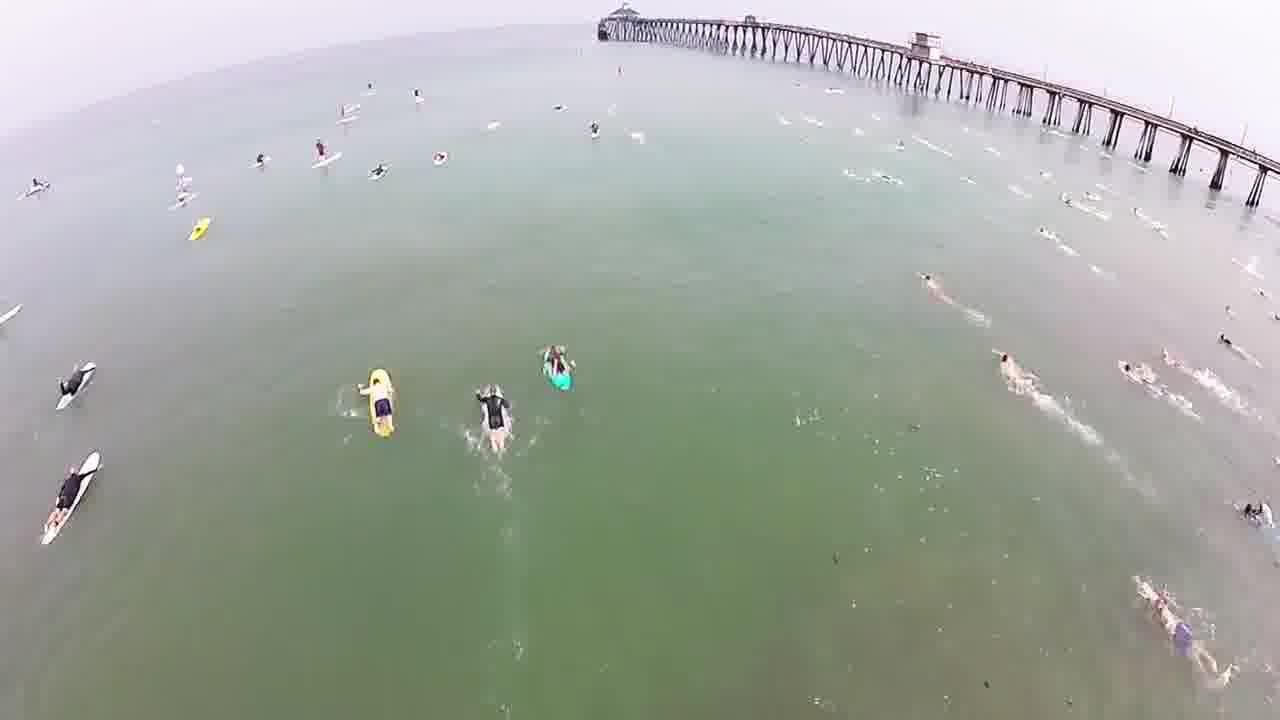human: (1142, 586, 1194, 656), (473, 382, 505, 425), (1231, 486, 1259, 533), (363, 375, 391, 421), (56, 462, 82, 510), (914, 258, 943, 296), (989, 342, 1023, 374), (62, 360, 81, 389)
